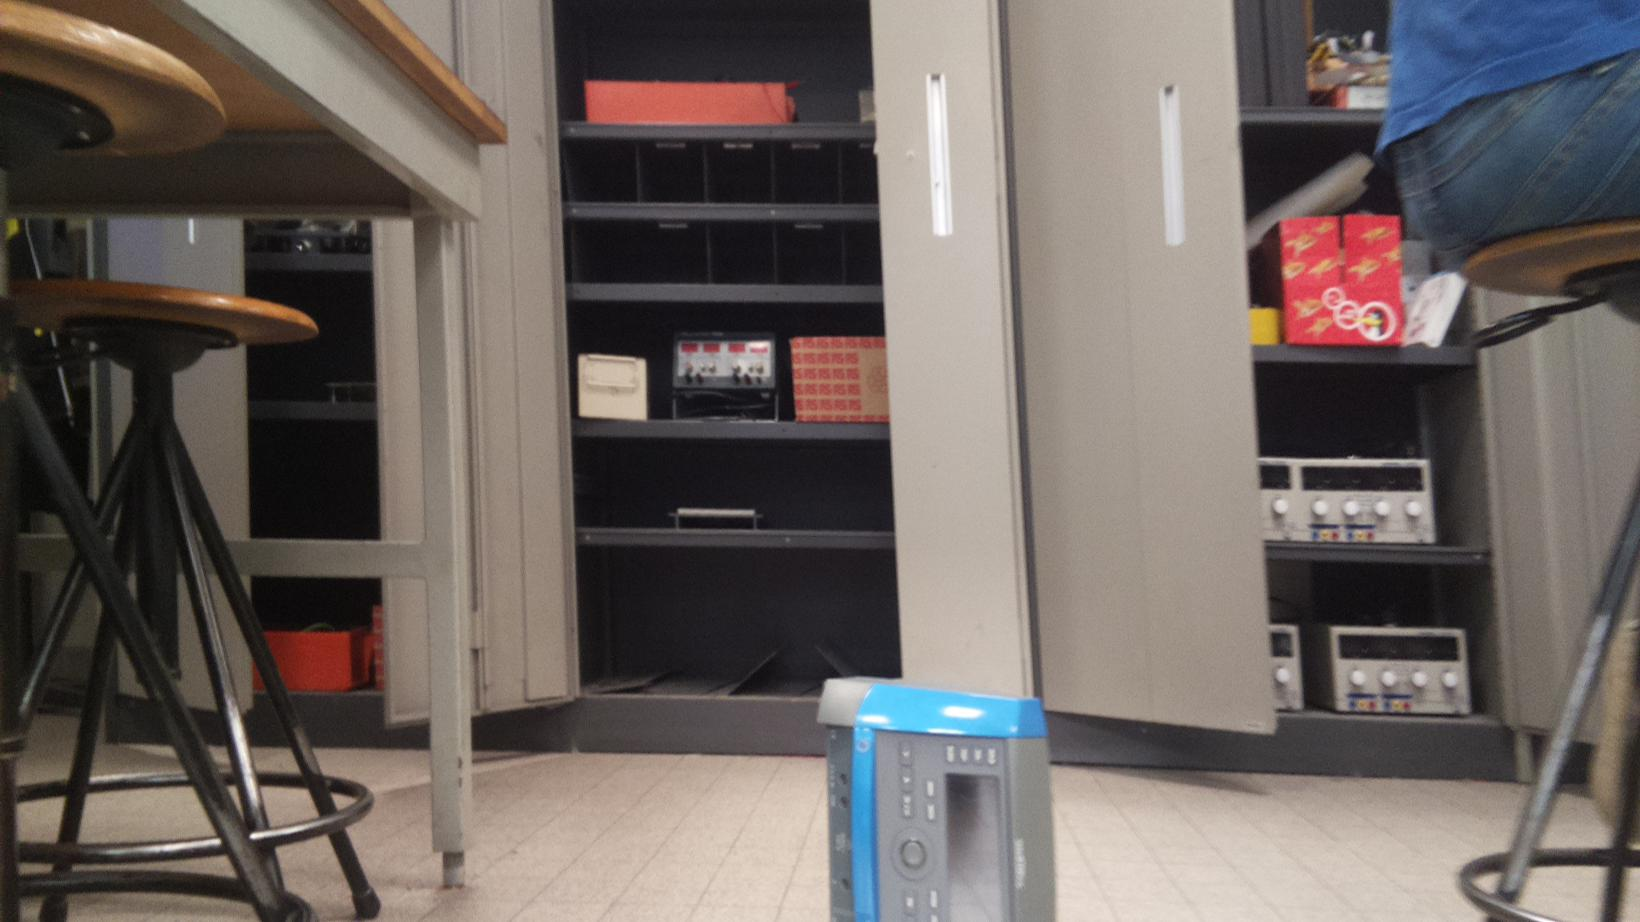medium: (814, 671, 1062, 922)
